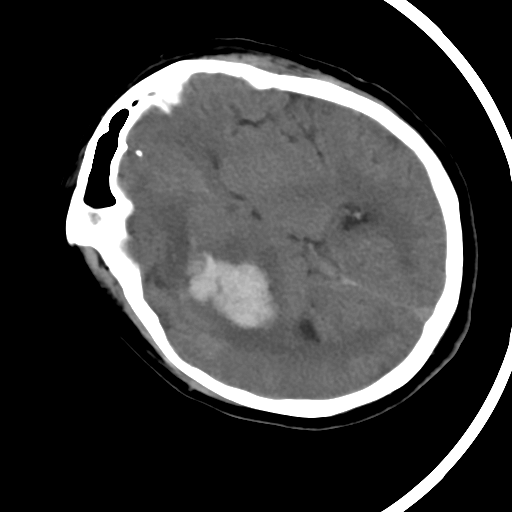a: (162, 211, 305, 355)
